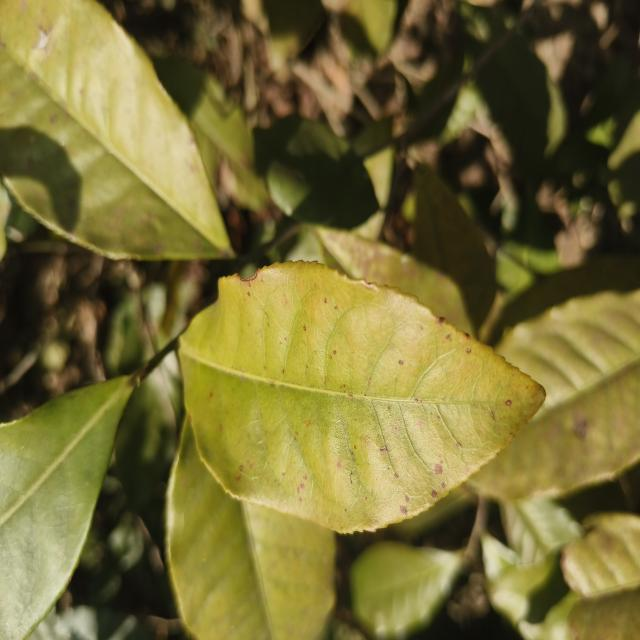Leaf: (179, 262, 545, 532), (0, 0, 232, 259), (165, 420, 335, 640), (471, 289, 640, 500), (0, 377, 135, 640), (153, 58, 268, 209), (254, 115, 379, 228), (412, 164, 497, 329), (350, 541, 462, 640), (561, 513, 640, 640), (500, 498, 583, 563)
